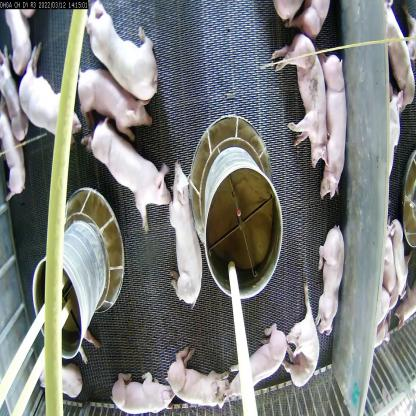Pig: (84, 1, 166, 111), (88, 124, 172, 229), (268, 30, 328, 173), (20, 47, 84, 151), (168, 158, 210, 312), (74, 64, 152, 142), (223, 323, 285, 412), (166, 342, 231, 412), (320, 53, 349, 203), (316, 212, 346, 349), (109, 365, 185, 415), (288, 290, 320, 397), (0, 49, 32, 147), (31, 358, 96, 399), (6, 13, 40, 84), (1, 105, 25, 193)
